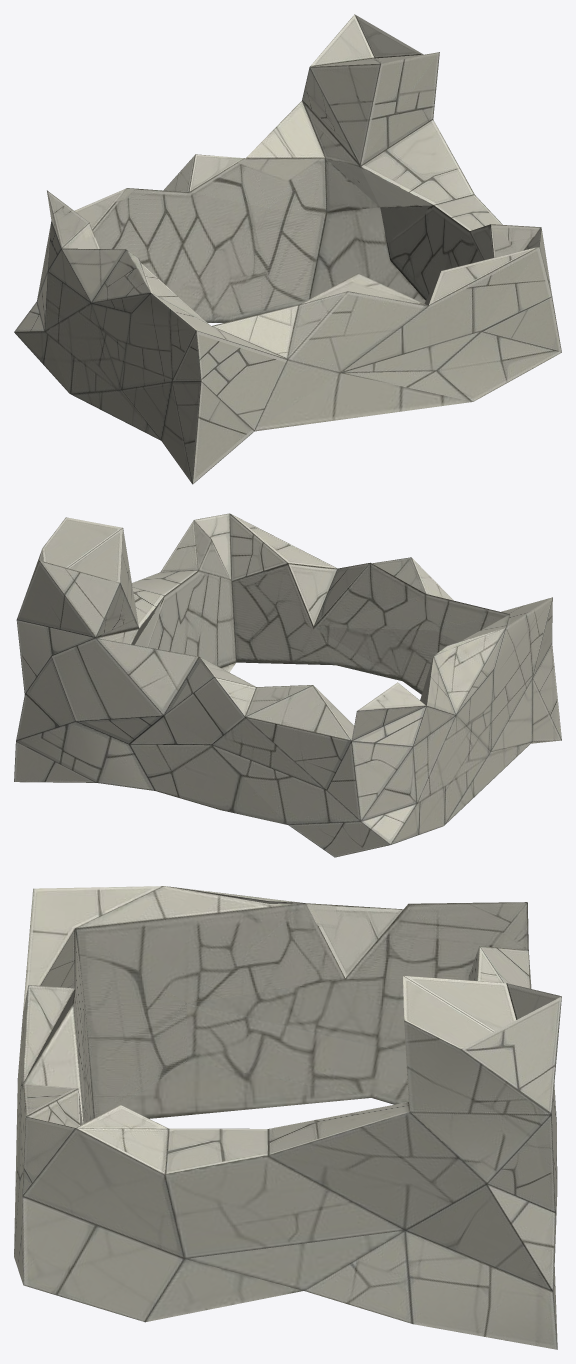
Rendered from parede-baixa.glb.
The picture shows the model from 3 angles, top to bottom: view 1: azimuth 30°, elevation 25°; view 2: azimuth 150°, elevation 25°; view 3: azimuth 270°, elevation 25°; orthographic projection. The views are drawn at different scales.
Size of the model in its own units: 1.88 by 1.13 by 1.65.
Materials: 1 (1 with a texture image).
